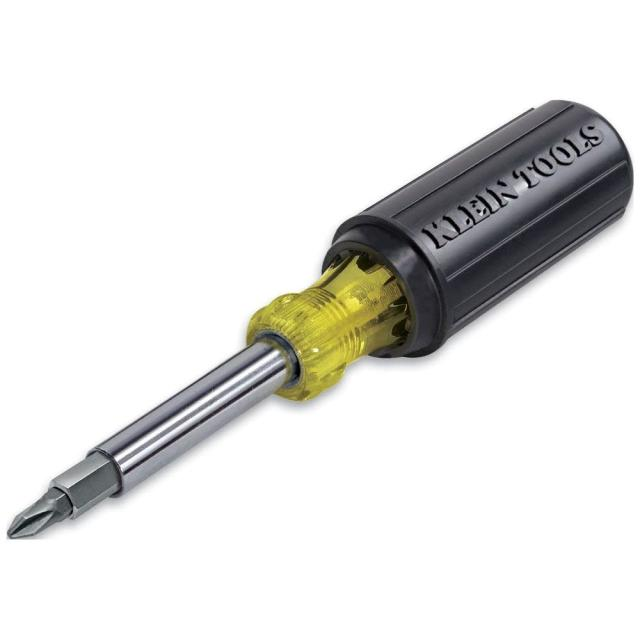Screwdriver: (8, 101, 632, 538)
